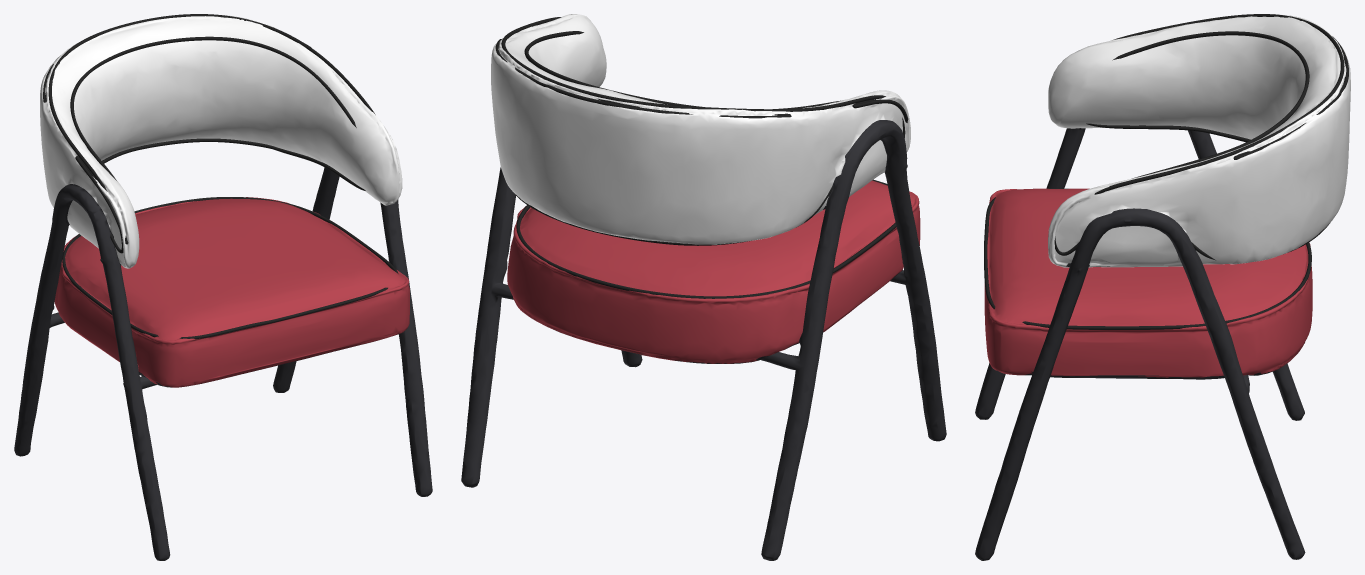
The model's file is koltuk-4.glb.
3 renders of one model, left to right at view 1: azimuth 30°, elevation 25°; view 2: azimuth 150°, elevation 25°; view 3: azimuth 270°, elevation 25°, orthographic. The views are drawn at different scales.
Visible parts, largest first — view 1: Kadife, Kumas, Metal, Biye; view 2: Kumas, Kadife, Metal, Biye; view 3: Kumas, Kadife, Metal, Biye.
Boxes of the visible parts, left/top/right/bottom form: Kadife: left=54, top=197, right=409, bottom=387; Kumas: left=40, top=14, right=402, bottom=268; Metal: left=14, top=167, right=432, bottom=560; Biye: left=43, top=14, right=398, bottom=339; Kumas: left=491, top=14, right=910, bottom=244; Kadife: left=507, top=180, right=920, bottom=363; Metal: left=461, top=120, right=946, bottom=560; Biye: left=495, top=17, right=908, bottom=298; Kumas: left=1048, top=14, right=1350, bottom=267; Kadife: left=984, top=188, right=1312, bottom=377; Metal: left=975, top=128, right=1305, bottom=560; Biye: left=984, top=14, right=1348, bottom=329.
Size of the model in its own units: 0.6672 by 0.813 by 0.6536.
